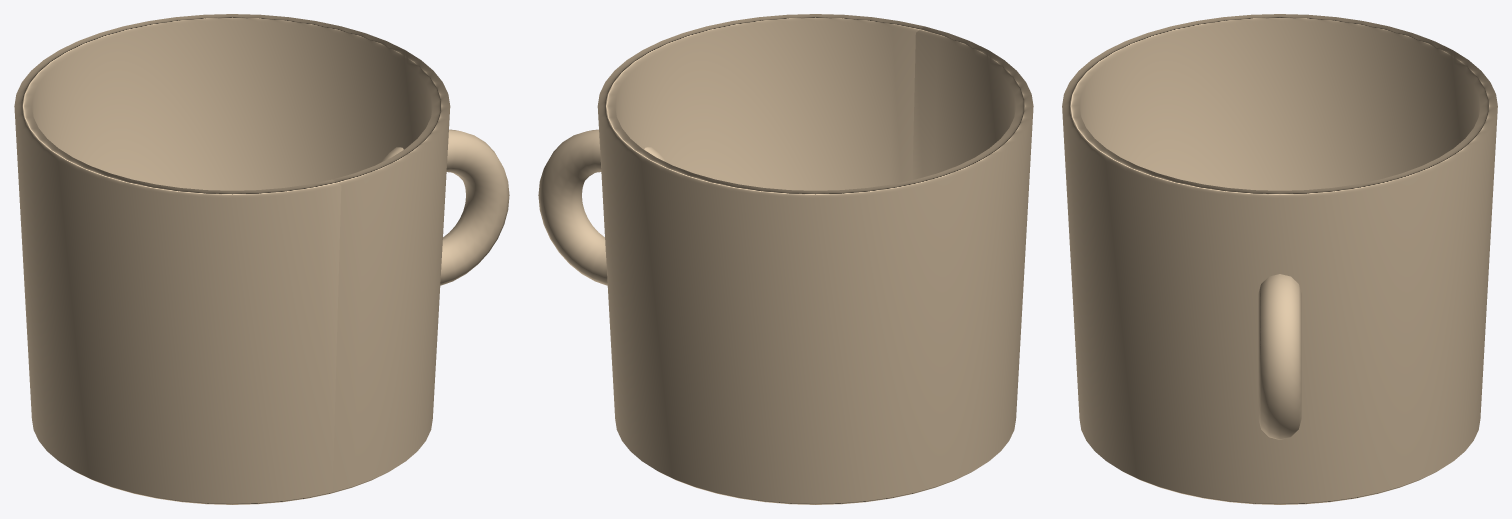
The model's file is CER-05.glb.
3 renders of one model, left to right at view 1: azimuth 30°, elevation 25°; view 2: azimuth 150°, elevation 25°; view 3: azimuth 270°, elevation 25°, orthographic.
Size of the model in its own units: 0.092 by 0.06 by 0.075.
